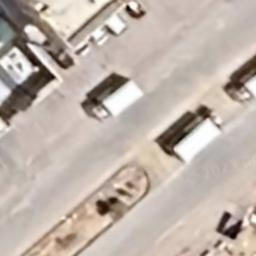truck: (166, 108, 224, 166), (88, 76, 146, 124), (228, 66, 256, 105)
